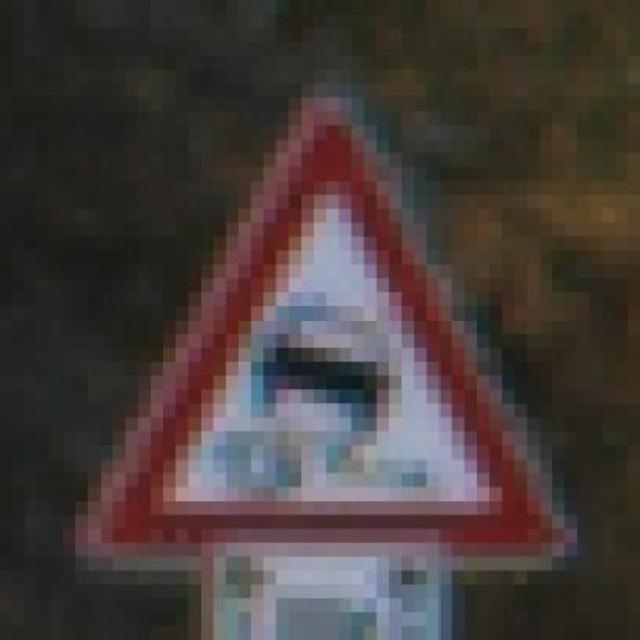Slippery Road Ahead: (75, 70, 590, 598)
